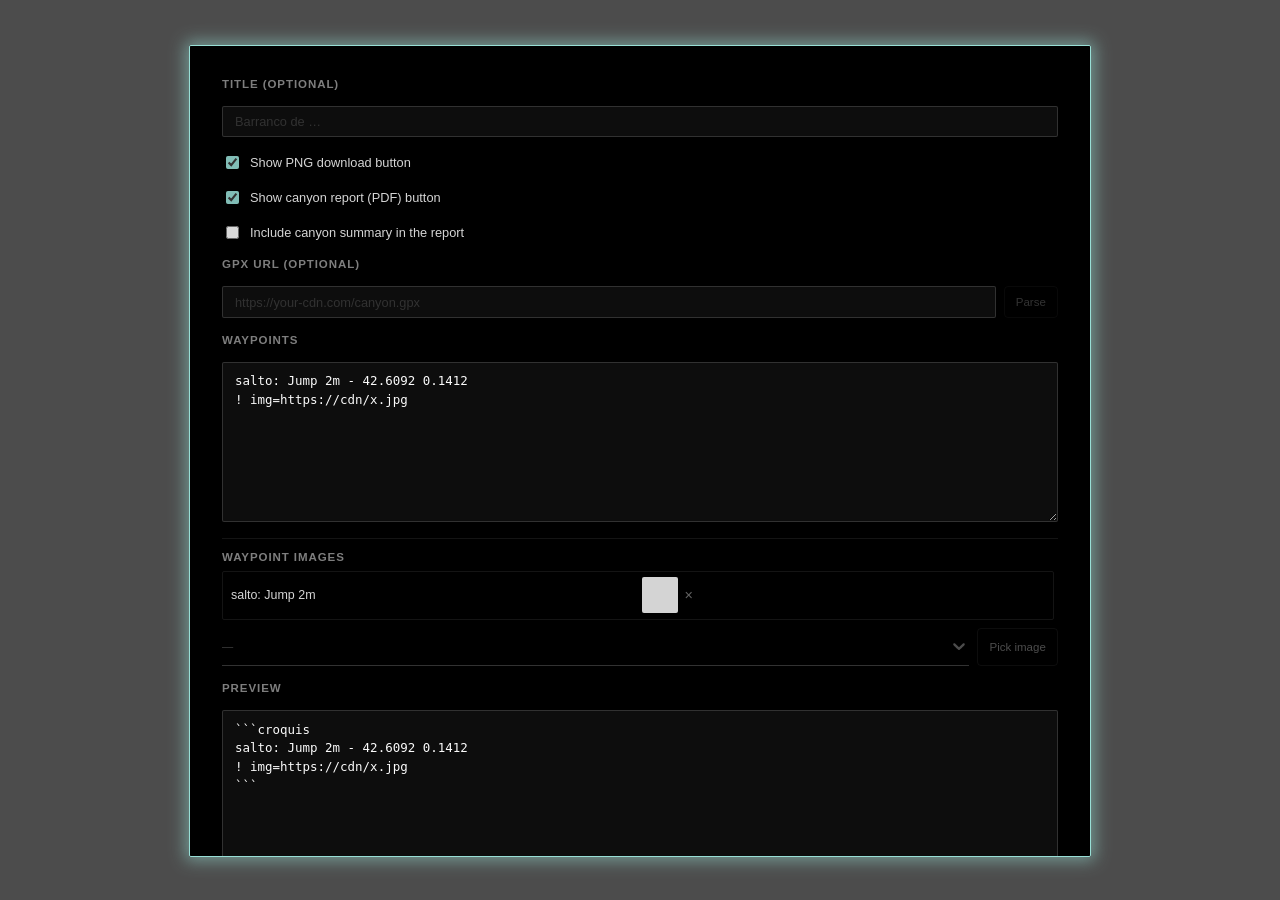
Test: CroquisInsertModal › removes a waypoint image
The width and height of the screenshot is (1280, 900).
Click the button with test id "croquis-wp-remove-0-0".
click(689, 595)  # box [680,586,697,604]
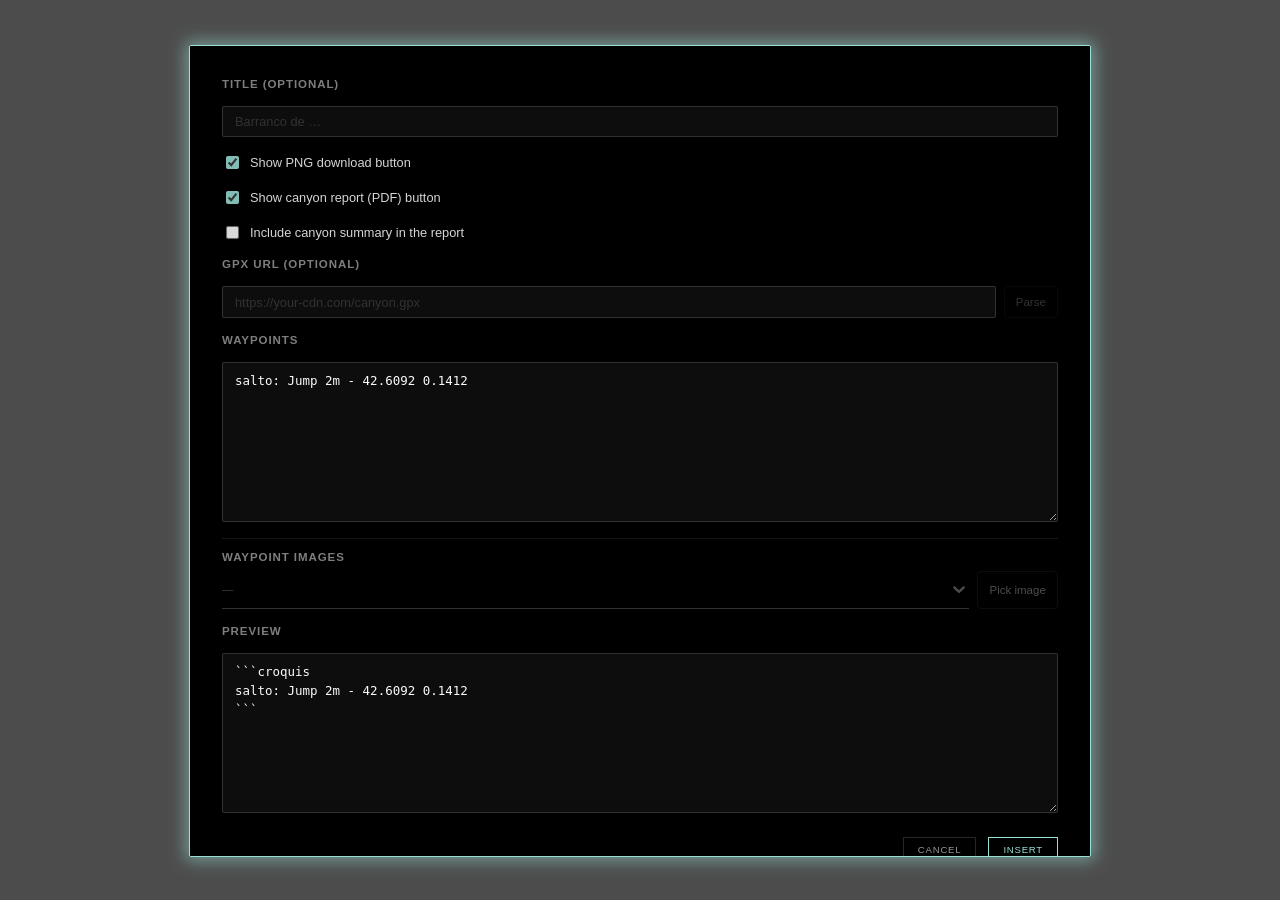
Check: the picture with test id "croquis-wp-thumb-0-0" is gone
